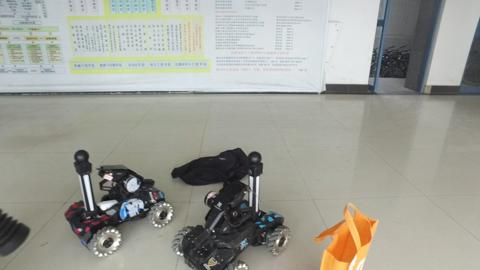bag: (171, 152, 249, 184)
chariot: (61, 145, 175, 258), (173, 171, 292, 268)
